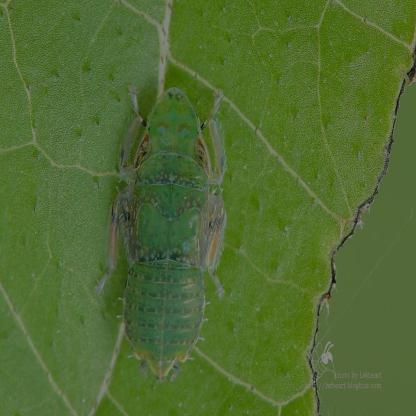green-leafhopper: (107, 84, 228, 374)
